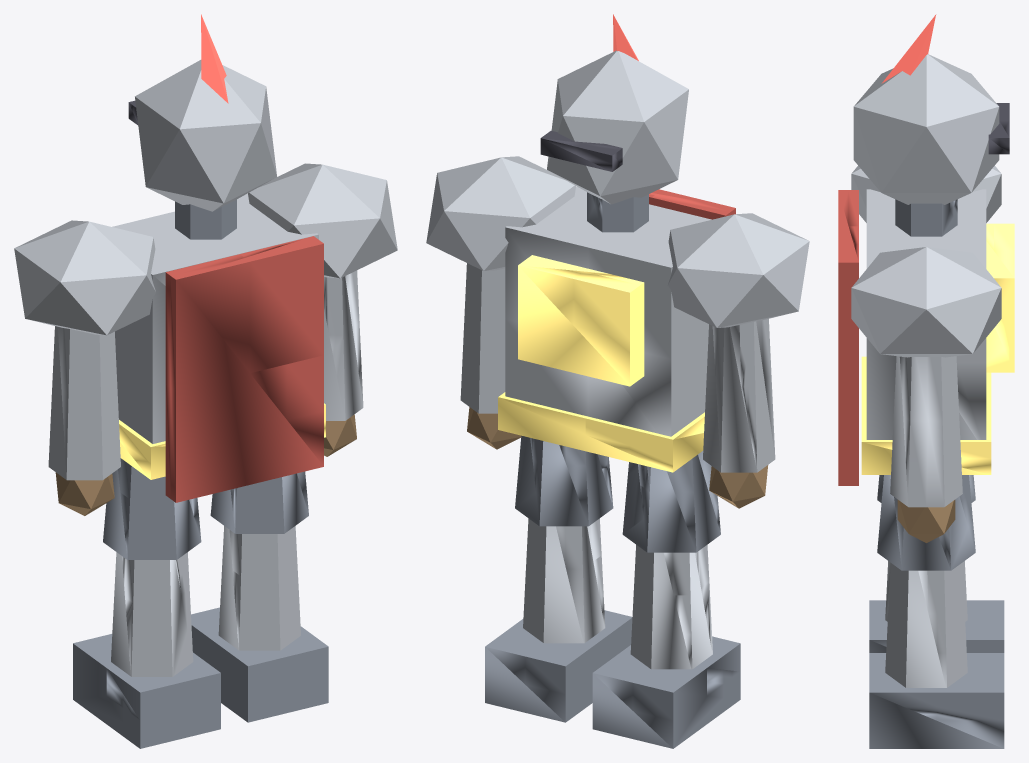
The model's file is knight.glb.
The picture shows the model from 3 angles, left to right: view 1: azimuth 30°, elevation 25°; view 2: azimuth 150°, elevation 25°; view 3: azimuth 270°, elevation 25°; orthographic projection.
Visible parts, largest first — view 1: KnightTorso; view 2: KnightTorso; view 3: KnightTorso.
Boxes of the visible parts, <box> form: KnightTorso: <box>14,14,397,748</box>; KnightTorso: <box>426,14,809,748</box>; KnightTorso: <box>838,14,1014,748</box>.
Bounding box in the file's own units: 1.61 × 2.93 × 0.68.
